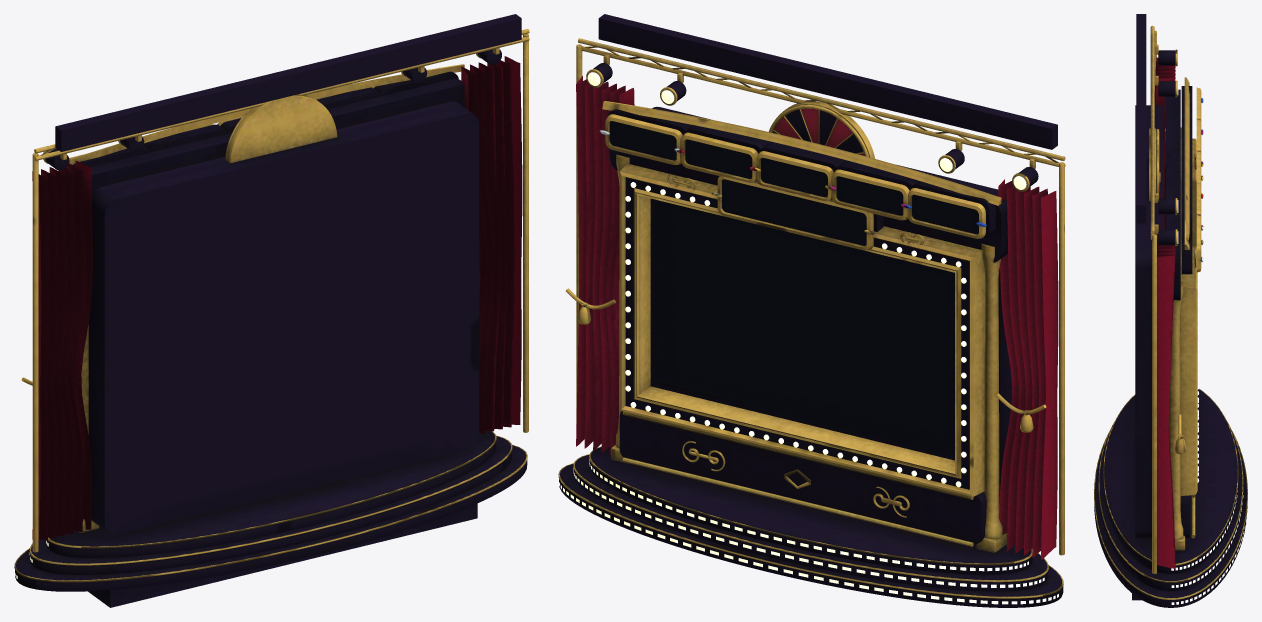
3 views of the same model, side by side, from view 1: azimuth 30°, elevation 25°; view 2: azimuth 150°, elevation 25°; view 3: azimuth 270°, elevation 25° (orthographic). The views are drawn at different scales.
Parts seen in each view (by area): view 1: Midnight_purple_enamel, Ruby_velvet, Polished_champagne_gold; view 2: Midnight_purple_enamel, Even_dark_display_face, Polished_champagne_gold, Ruby_velvet, Warm_fixed_lamp_glow, Shared_jewel_enamel; view 3: Midnight_purple_enamel, Polished_champagne_gold, Ruby_velvet, Warm_fixed_lamp_glow.
Boxes of the visible parts, x1,y1,x2,y2 form: Midnight_purple_enamel: (15,14,527,607); Ruby_velvet: (32,56,522,541); Polished_champagne_gold: (14,29,529,582); Midnight_purple_enamel: (559,14,1063,607); Even_dark_display_face: (609,121,978,455); Polished_champagne_gold: (558,38,1065,598); Ruby_velvet: (576,76,1058,559); Warm_fixed_lamp_glow: (558,72,1058,604); Shared_jewel_enamel: (599,108,986,234); Midnight_purple_enamel: (1094,14,1247,607); Polished_champagne_gold: (1094,25,1247,599); Ruby_velvet: (1154,57,1175,568); Warm_fixed_lamp_glow: (1171,52,1247,604).
Bounding box in the file's own units: 10.86 × 10 × 3.37.
6 materials, 5 textured.
